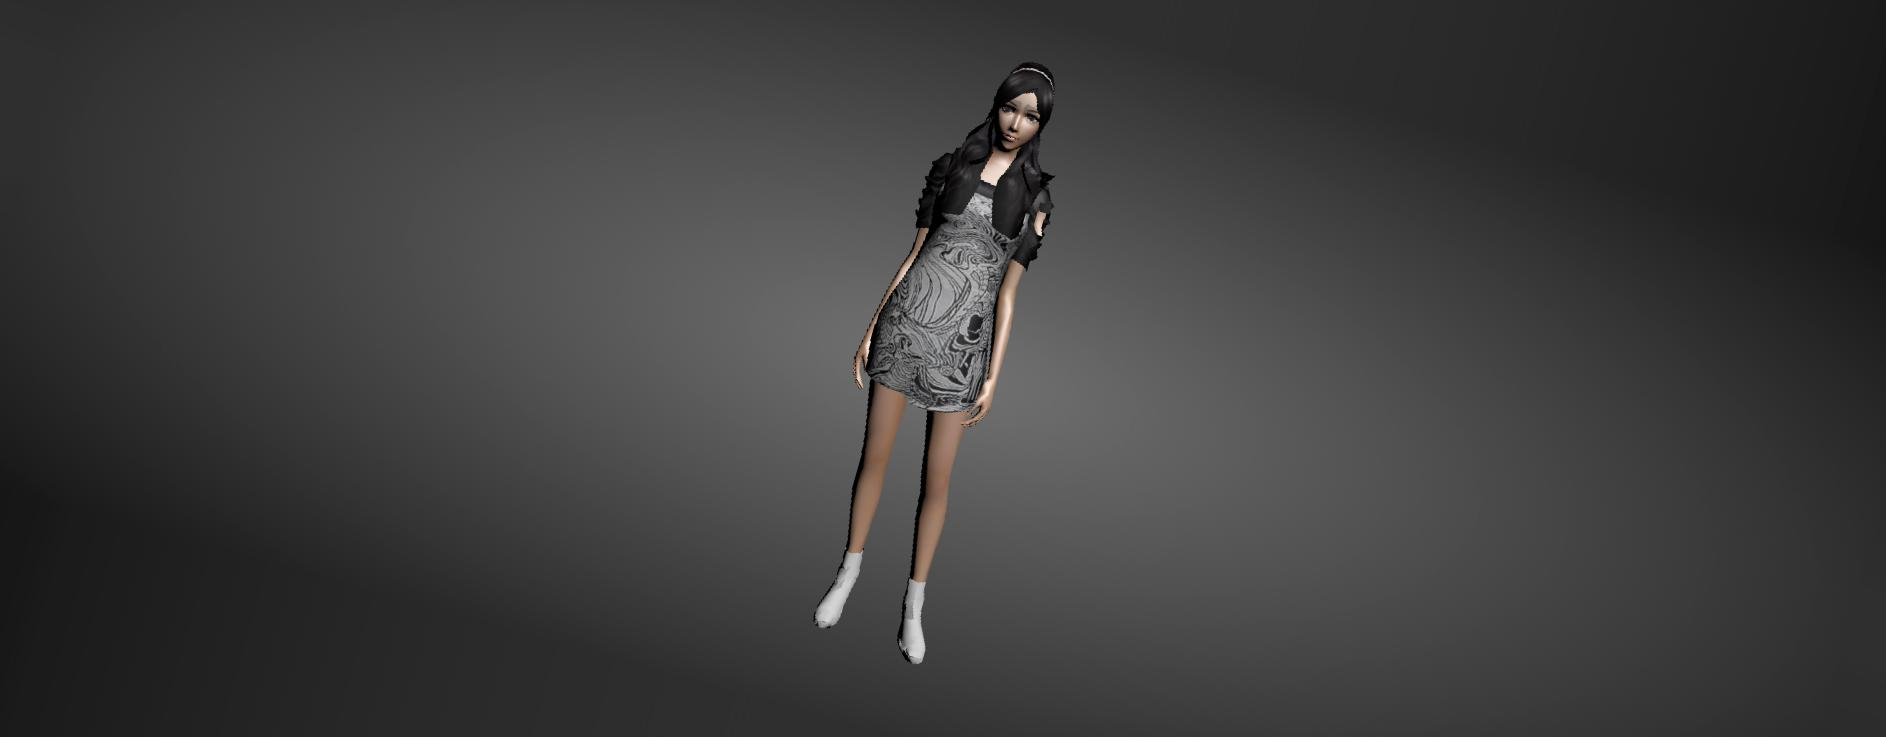clip: (1031, 201, 1052, 237)
